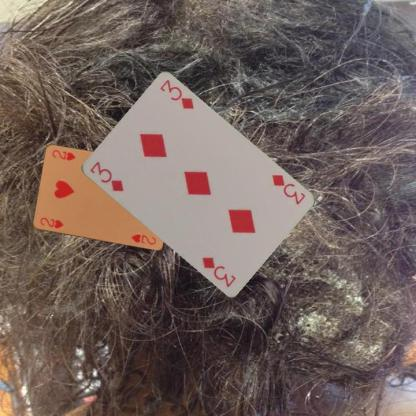2h: (37, 215, 65, 230)
3d: (268, 172, 307, 206), (86, 159, 124, 193)
